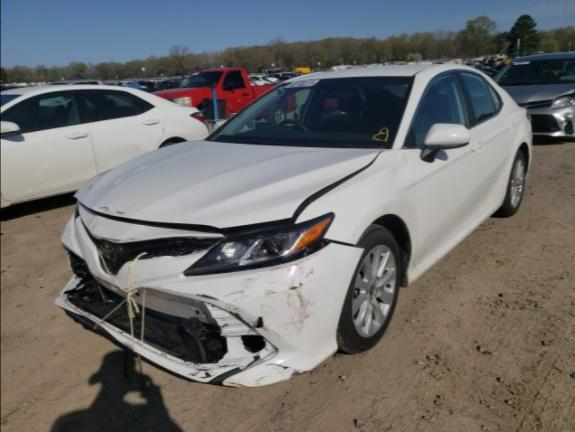Broken part: (56, 206, 366, 388), (74, 152, 380, 241), (181, 213, 335, 276)
Corrosion: (222, 377, 262, 387), (290, 368, 308, 376)
Dent: (64, 213, 113, 285), (85, 212, 100, 232)
Missing part: (60, 240, 228, 365), (74, 202, 227, 276), (240, 334, 266, 352)
Paint chip: (228, 311, 251, 329), (265, 363, 291, 372), (195, 293, 219, 302), (253, 315, 264, 328), (198, 371, 213, 379), (227, 382, 247, 387), (254, 375, 268, 382), (189, 370, 201, 377), (218, 364, 233, 368), (195, 368, 208, 372), (116, 209, 124, 215), (288, 285, 297, 290), (100, 206, 108, 210), (298, 282, 303, 287)
Scratch: (269, 256, 316, 272), (295, 287, 311, 324), (286, 291, 296, 310), (265, 281, 290, 288), (223, 290, 243, 297), (231, 295, 249, 302), (267, 303, 279, 313), (104, 238, 139, 241), (303, 271, 314, 278), (264, 290, 277, 295), (259, 305, 264, 311), (246, 278, 253, 281), (231, 308, 237, 311), (245, 278, 252, 280)
